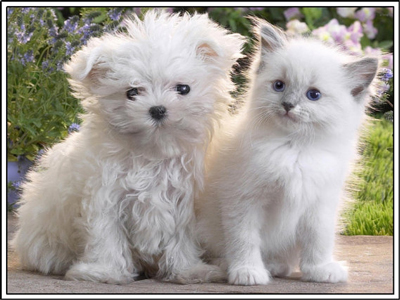Cat: (221, 12, 378, 290)
Dog: (13, 6, 248, 300)
